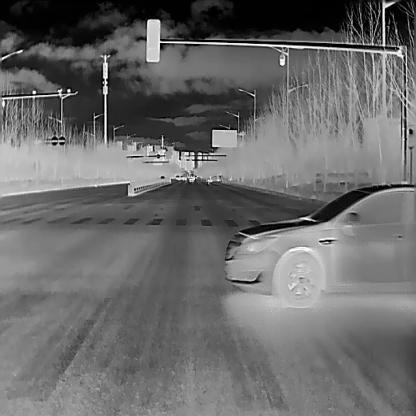car: (224, 183, 416, 307), (205, 173, 220, 181), (175, 173, 180, 179), (188, 177, 194, 182), (181, 174, 186, 179), (159, 175, 165, 178)
